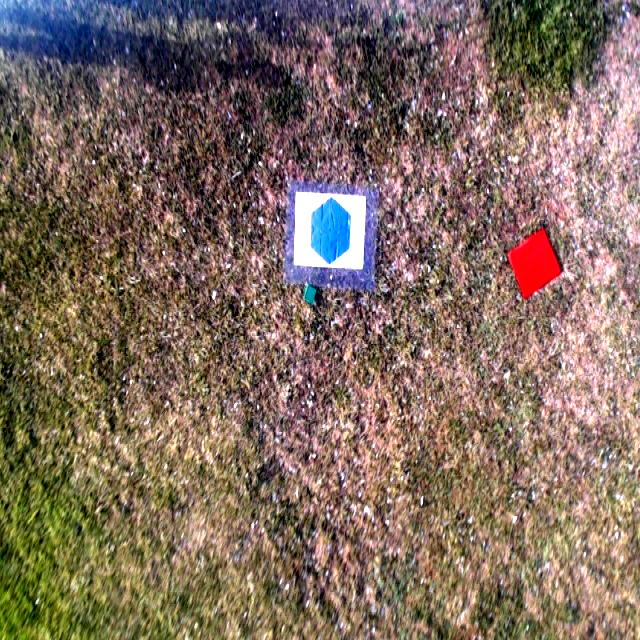blue_hexagon: (310, 197, 351, 265)
red_square: (508, 230, 560, 298)
